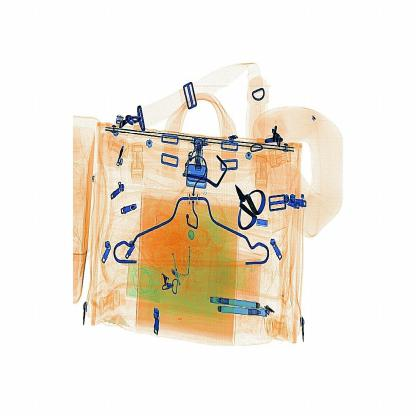gun: (228, 178, 275, 235)
